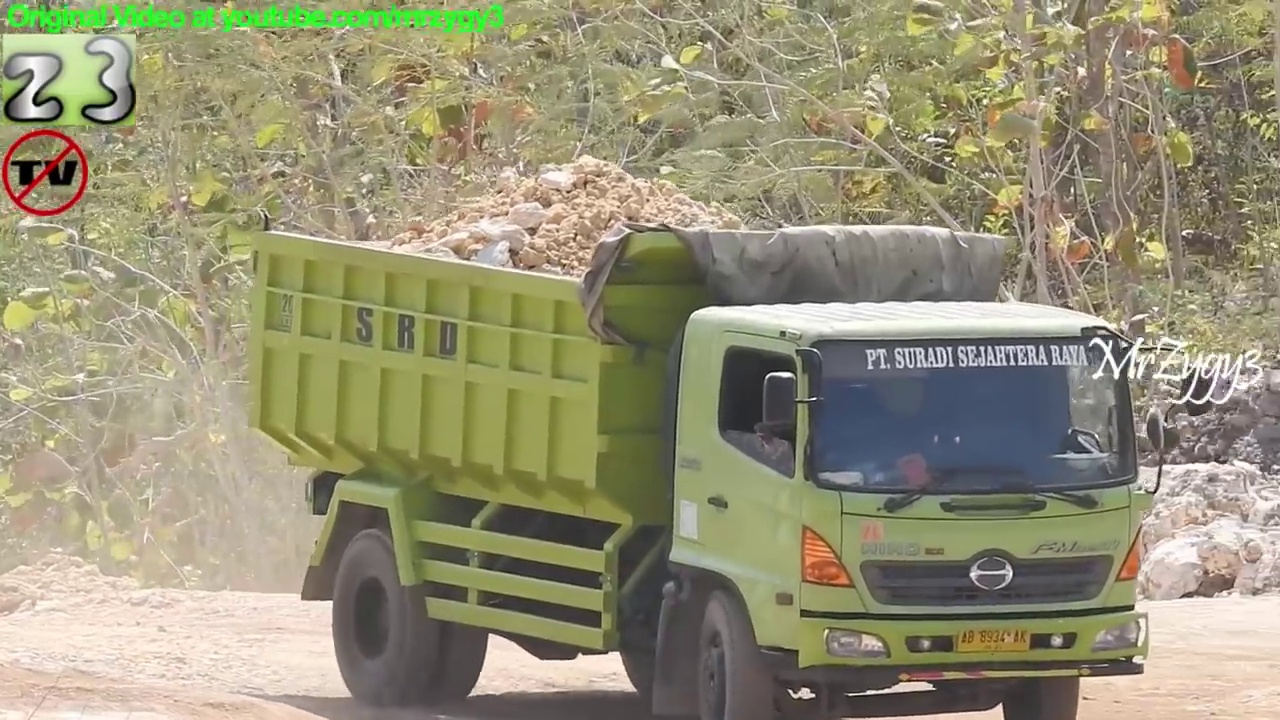truck: (236, 202, 1216, 720)
